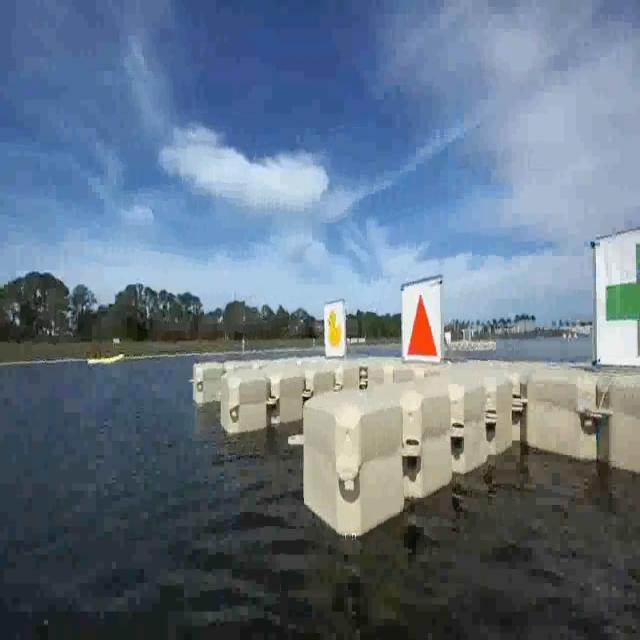blue-cross: (592, 240, 640, 362)
yellow-duck: (319, 304, 347, 359)
